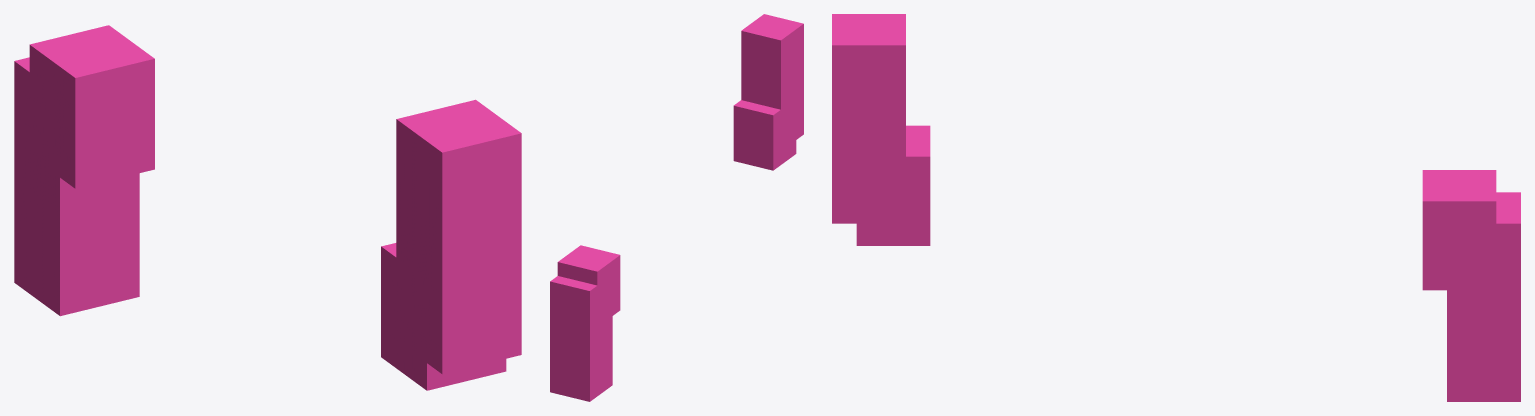
The model's file is satboy_V3_arms_compressed.gltf.
3 renders of one model, left to right at view 1: azimuth 30°, elevation 25°; view 2: azimuth 150°, elevation 25°; view 3: azimuth 270°, elevation 25°, orthographic. The views are drawn at different scales.
Parts seen in each view (by area): view 1: arm L 002, arm R 002; view 2: arm L 002, arm R 002; view 3: arm L 002, arm R 002.
Part boxes in pixels (x1,y1,x2,y2): arm L 002: (14, 25, 154, 316); arm R 002: (381, 99, 521, 390); arm L 002: (550, 245, 620, 401); arm R 002: (733, 14, 803, 170); arm L 002: (1422, 170, 1520, 401); arm R 002: (832, 14, 930, 245).
Size of the model in its own units: 3 by 16 by 28.
